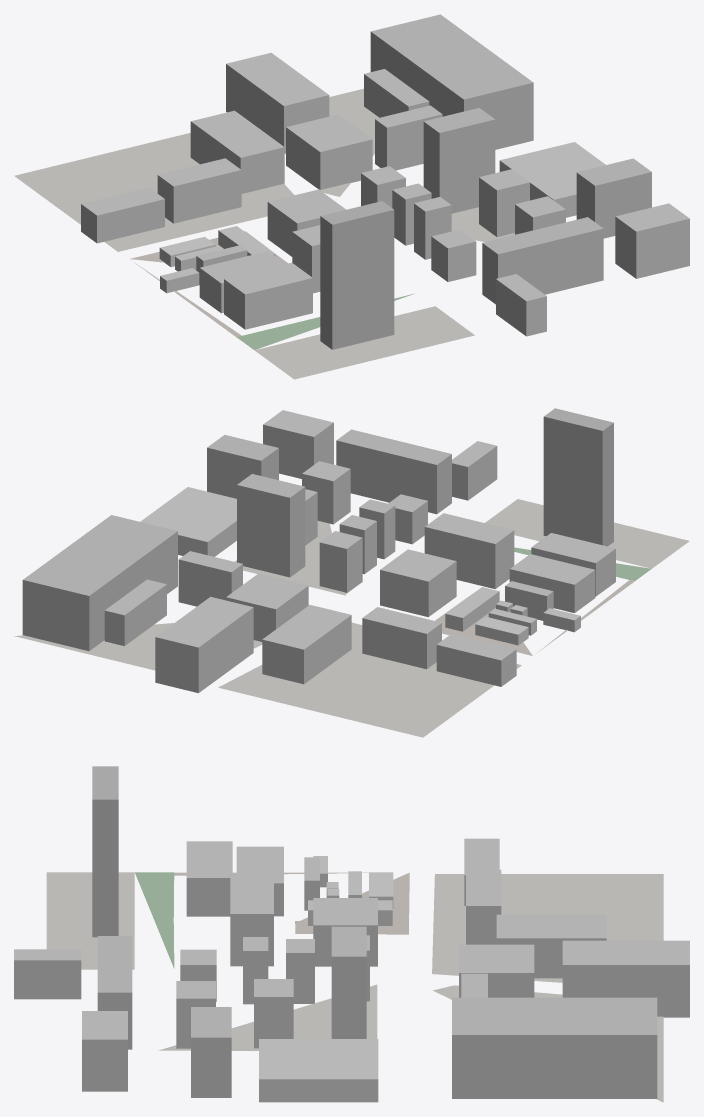
The model's file is 115_76_mid.glb.
3 renders of one model, top to bottom at view 1: azimuth 30°, elevation 25°; view 2: azimuth 150°, elevation 25°; view 3: azimuth 270°, elevation 25°, orthographic. The views are drawn at different scales.
Bounding box in the file's own units: 452 × 125 × 548.
